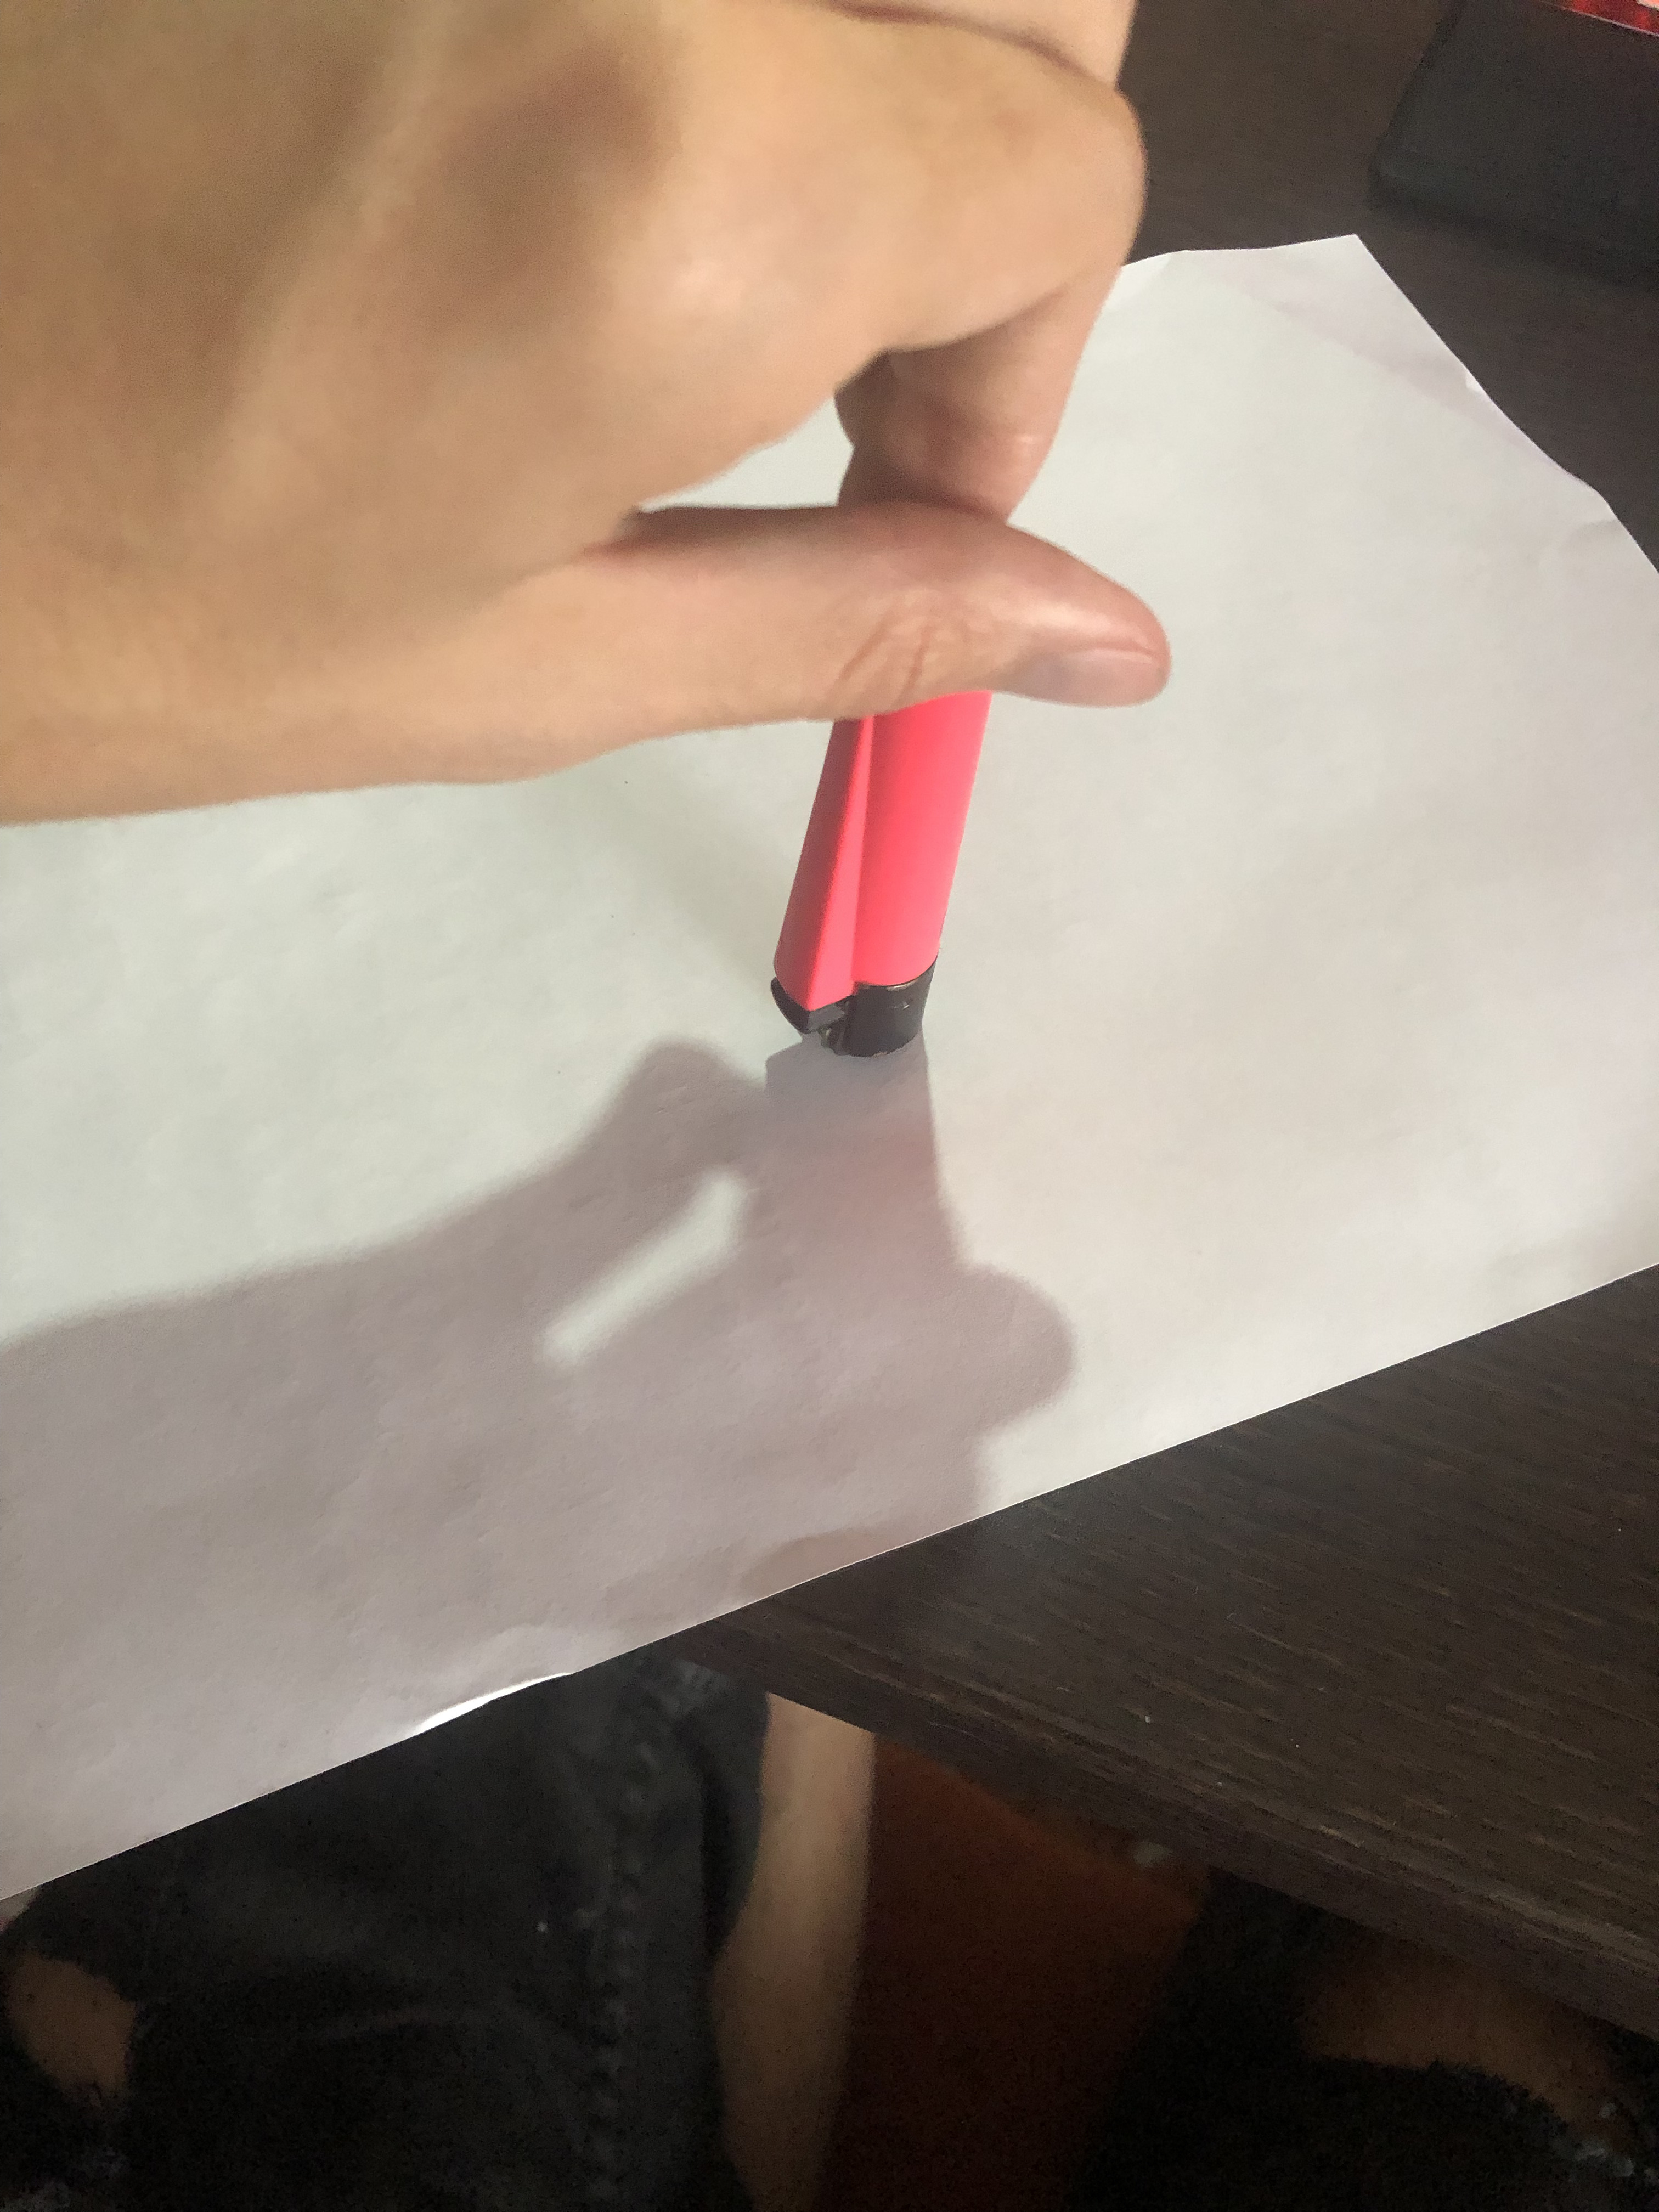Mechero: (767, 698, 1012, 1075)
